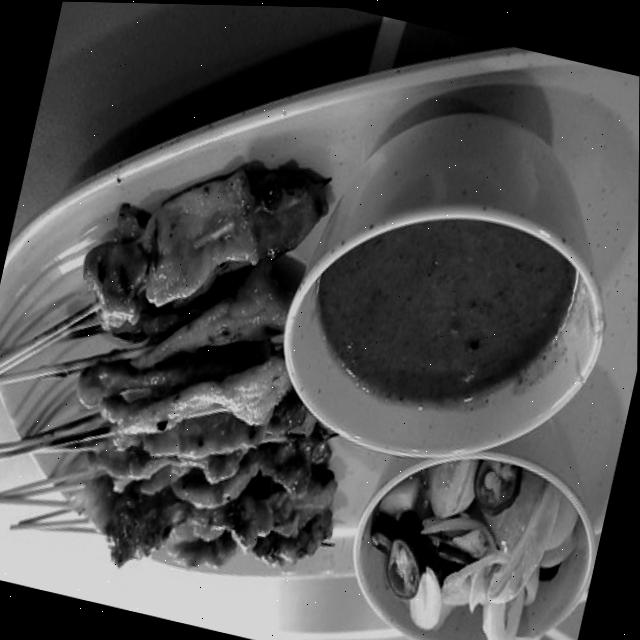牛肉菜式: (0, 77, 430, 625)
